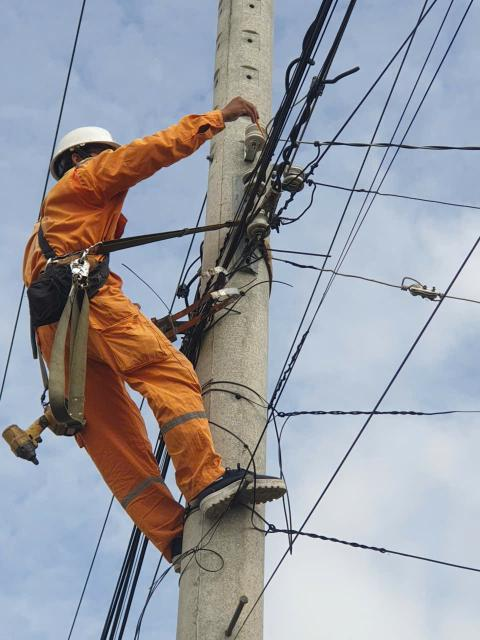harness: (24, 226, 126, 318)
helmet: (29, 106, 128, 168)
shoes: (179, 439, 307, 525)
